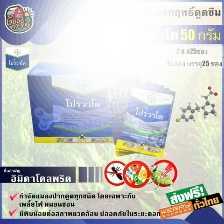book: (24, 59, 143, 145)
insecticide: (112, 80, 178, 160)
